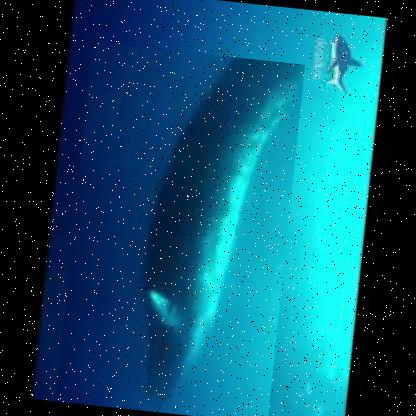blue_whale: (52, 41, 305, 415)
